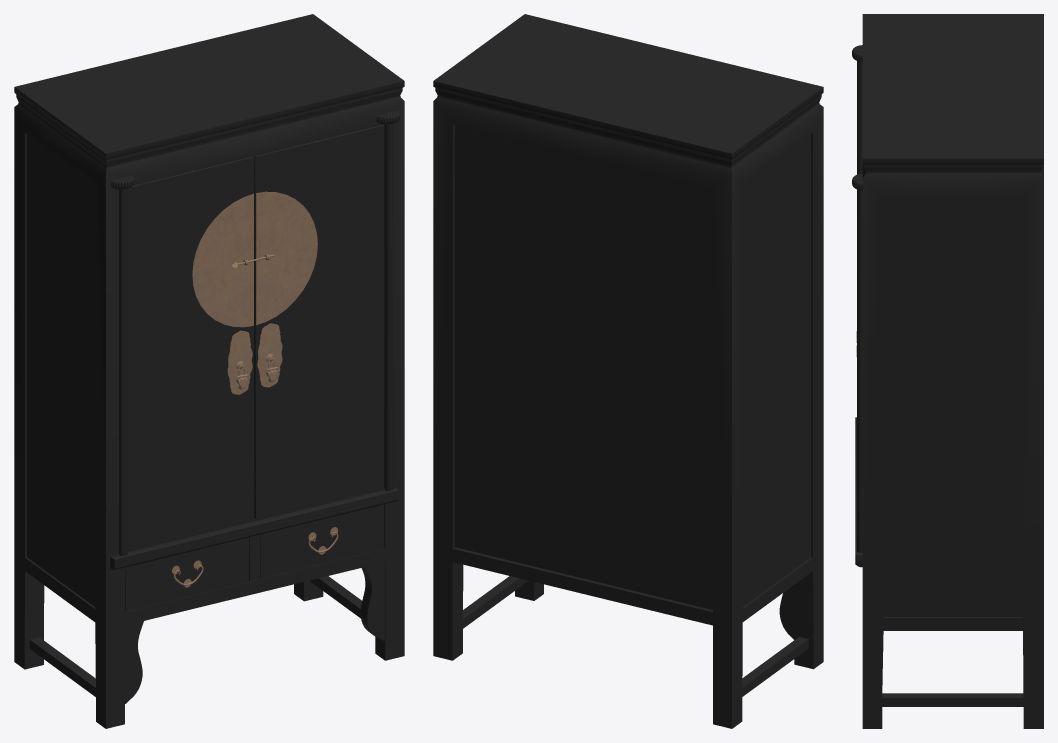
The model's file is wedding_cabinet_black.gltf.
3 views of the same model, side by side, from view 1: azimuth 30°, elevation 25°; view 2: azimuth 150°, elevation 25°; view 3: azimuth 270°, elevation 25° (orthographic).
Visible parts, largest first — view 1: export; view 2: export; view 3: export.
Part boxes in pixels (box(x1,y1,x2,y2)): export: box(14, 14, 404, 728); export: box(433, 14, 823, 728); export: box(852, 14, 1043, 728).
Size of the model in its own units: 0.9993 by 1.84 by 0.5605.
1 material, 1 textured.
